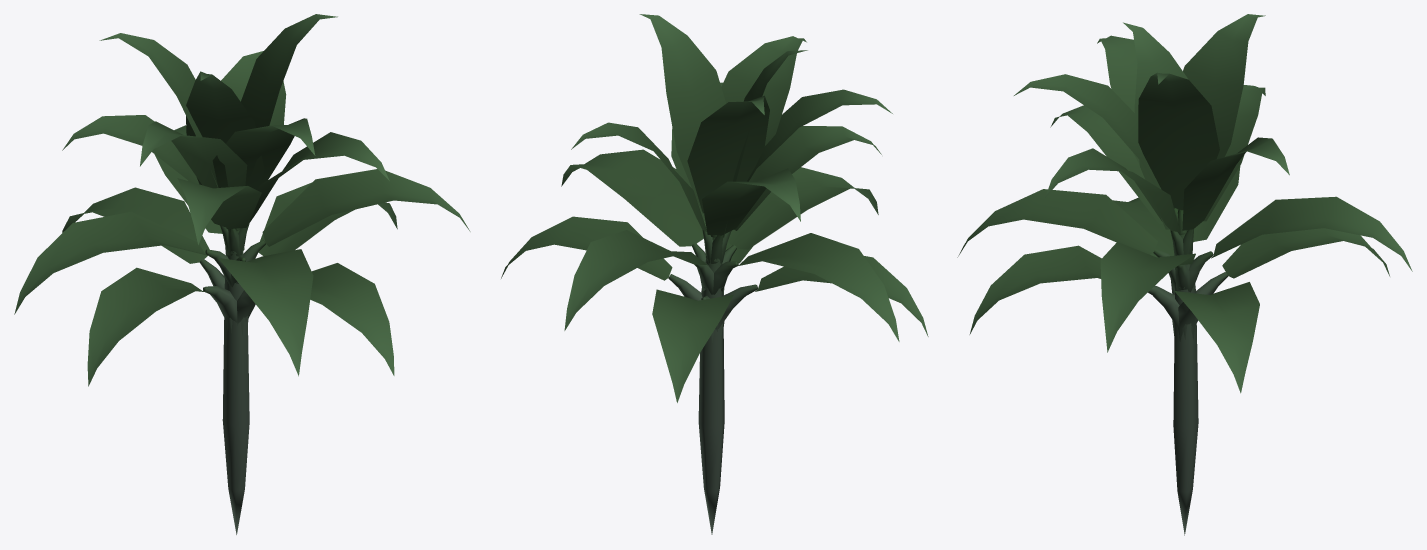
Rendered from plants-leafy-plants-pointed-leaf-plant_v5.glb.
3 views of the same model, side by side, from view 1: azimuth 30°, elevation 25°; view 2: azimuth 150°, elevation 25°; view 3: azimuth 270°, elevation 25° (orthographic). The views are drawn at different scales.
Parts seen in each view (by area): view 1: Pointed Leaf Plant_v5; view 2: Pointed Leaf Plant_v5; view 3: Pointed Leaf Plant_v5.
Part boxes in pixels (x1,y1,x2,y2): Pointed Leaf Plant_v5: (14,14,470,534); Pointed Leaf Plant_v5: (501,14,928,534); Pointed Leaf Plant_v5: (957,14,1412,535).
Bounding box in the file's own units: 0.4137 × 0.5 × 0.4163.
